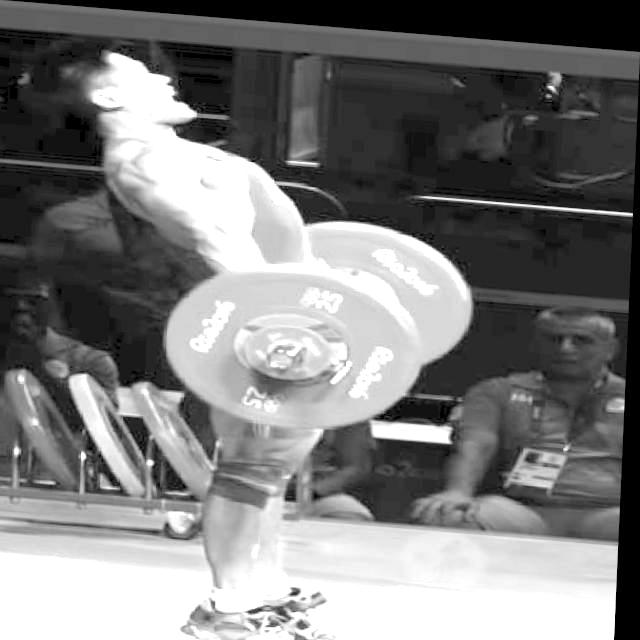barbell: (161, 246, 430, 435)
